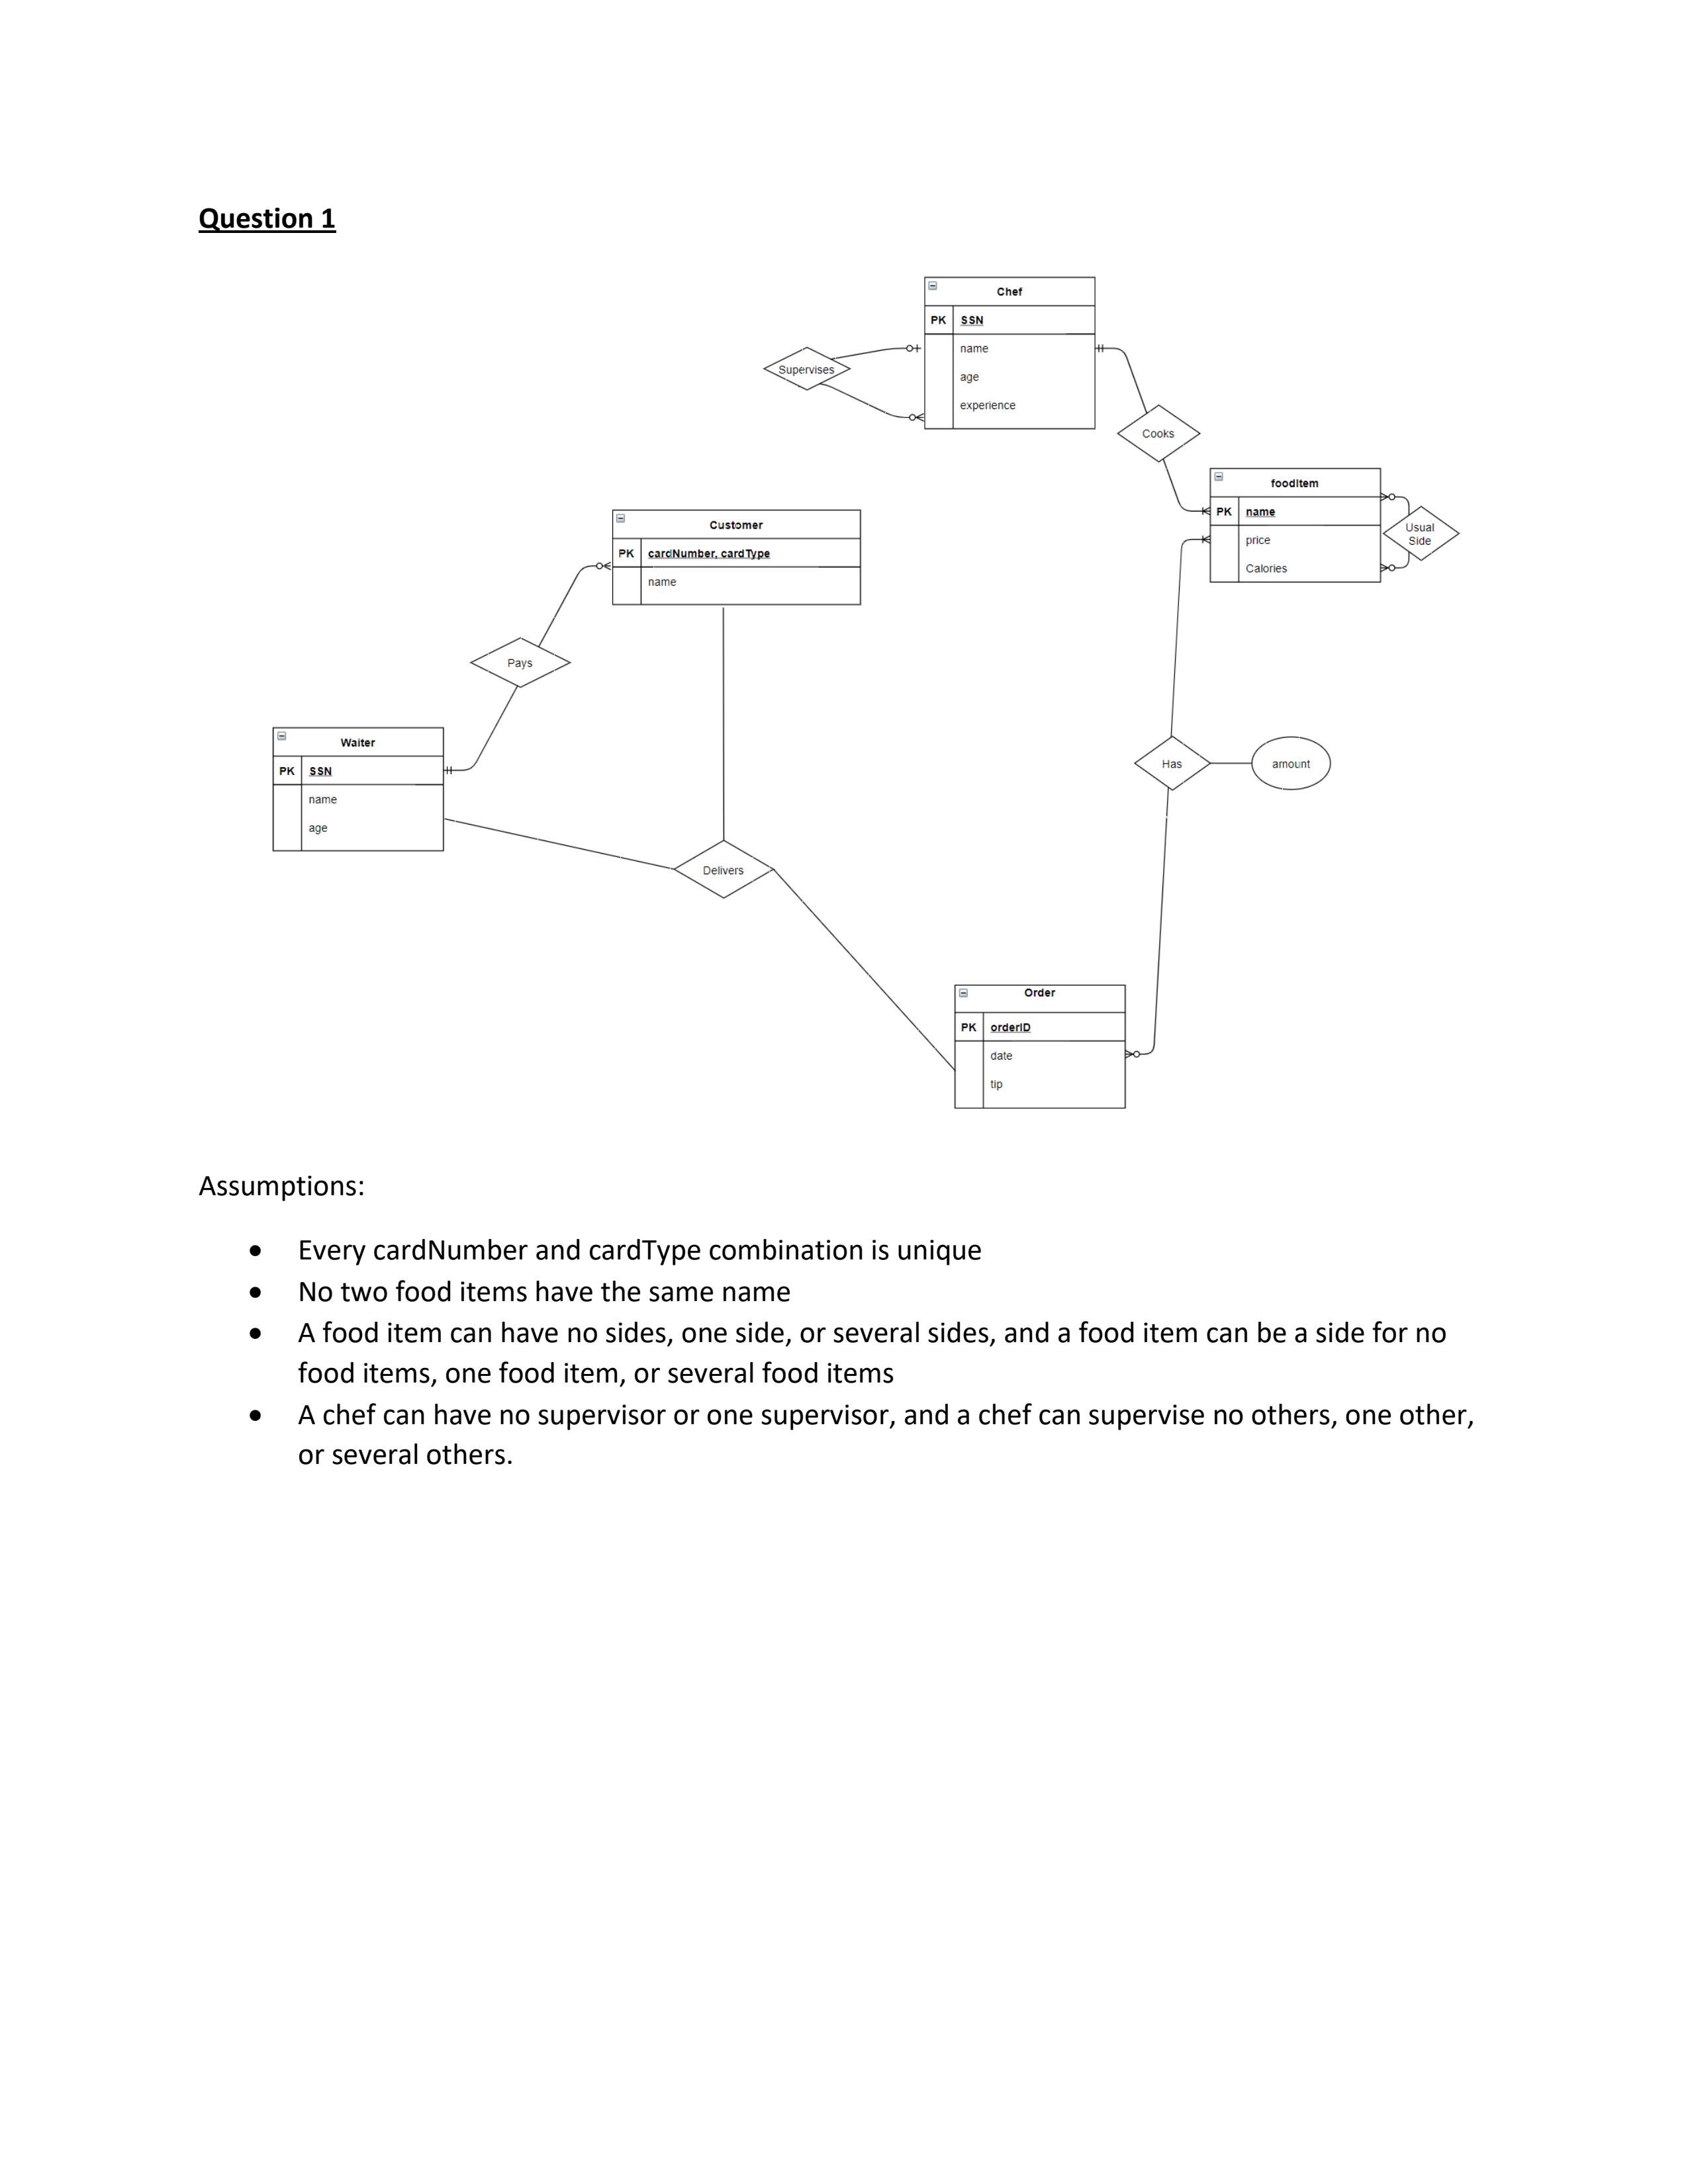Attribute: (1252, 736, 1333, 791)
Entity: (922, 275, 1098, 431), (610, 507, 864, 606), (954, 982, 1128, 1110), (271, 727, 447, 853), (1209, 466, 1383, 581)
Relationship: (674, 842, 775, 899), (1115, 404, 1202, 463), (470, 638, 571, 688), (1385, 505, 1461, 560), (1135, 736, 1209, 791), (762, 347, 851, 390)
